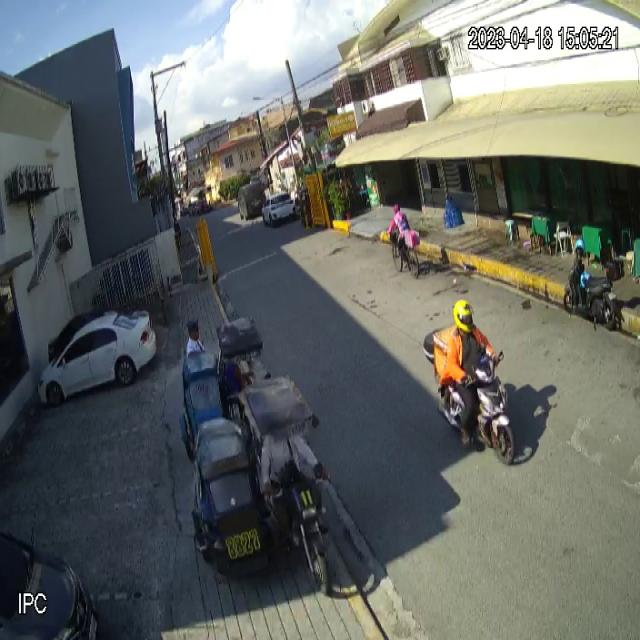Car: (38, 311, 158, 409)
Motorcycle: (424, 326, 516, 467), (563, 248, 626, 334)
Tricycle: (192, 372, 331, 595), (178, 313, 265, 458)
